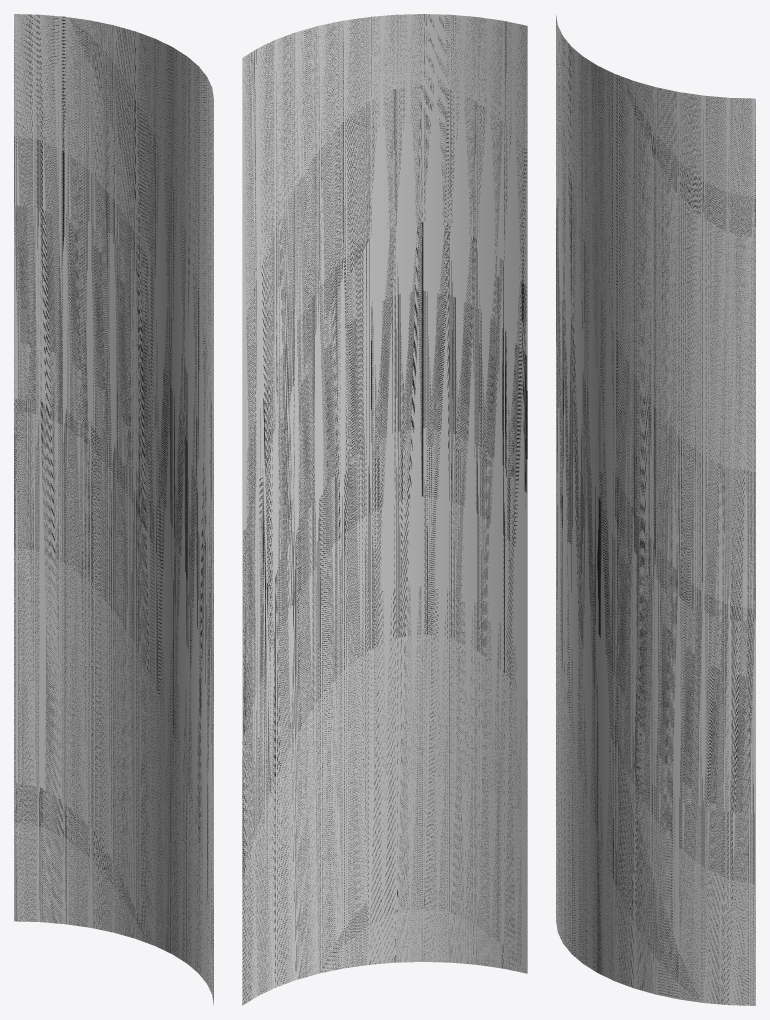
Rendered from original-90.obj.
The picture shows the model from 3 angles, left to right: view 1: azimuth 90°, elevation 25°; view 2: azimuth 150°, elevation 25°; view 3: azimuth 270°, elevation 25°; orthographic projection. The views are drawn at different scales.
Parts seen in each view (by area): view 1: mesh9/mesh9-geometry/material_3/component_1#mesh9-geometry; view 2: mesh9/mesh9-geometry/material_3/component_1#mesh9-geometry; view 3: mesh9/mesh9-geometry/material_3/component_1#mesh9-geometry.
Part boxes in pixels (x1=…): mesh9/mesh9-geometry/material_3/component_1#mesh9-geometry: x1=14, y1=14, x2=213, y2=1004; mesh9/mesh9-geometry/material_3/component_1#mesh9-geometry: x1=242, y1=14, x2=527, y2=1005; mesh9/mesh9-geometry/material_3/component_1#mesh9-geometry: x1=556, y1=15, x2=755, y2=1005.
Bounding box in the file's own units: 0.0342 × 0.171 × 0.0341.
